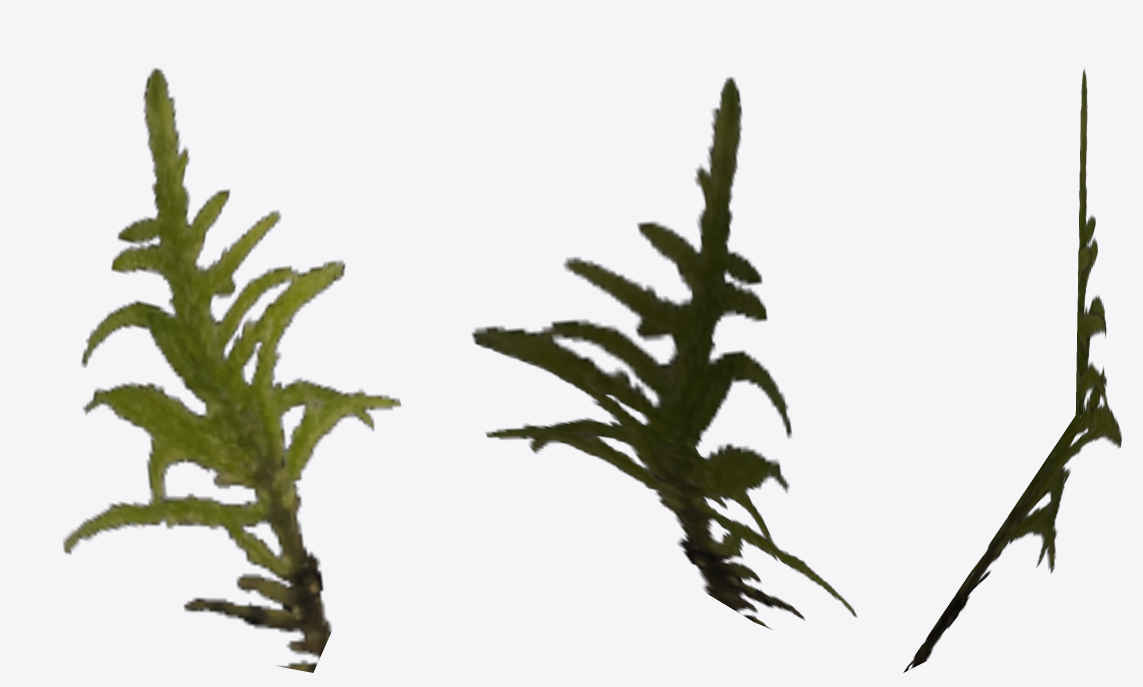
File: moss_07.glb
3 views of the same model, side by side, from view 1: azimuth 30°, elevation 25°; view 2: azimuth 150°, elevation 25°; view 3: azimuth 270°, elevation 25° (orthographic). The views are drawn at different scales.
Parts seen in each view (by area): view 1: IslandMoss07; view 2: IslandMoss07; view 3: IslandMoss07.
Boxes of the visible parts, box(x1,y1,x2,y2) form: IslandMoss07: box(63, 68, 400, 672); IslandMoss07: box(472, 77, 856, 629); IslandMoss07: box(903, 68, 1121, 672).
Bounding box in the file's own units: 0.0107 × 0.0176 × 0.00575.
1 material, 1 textured.
